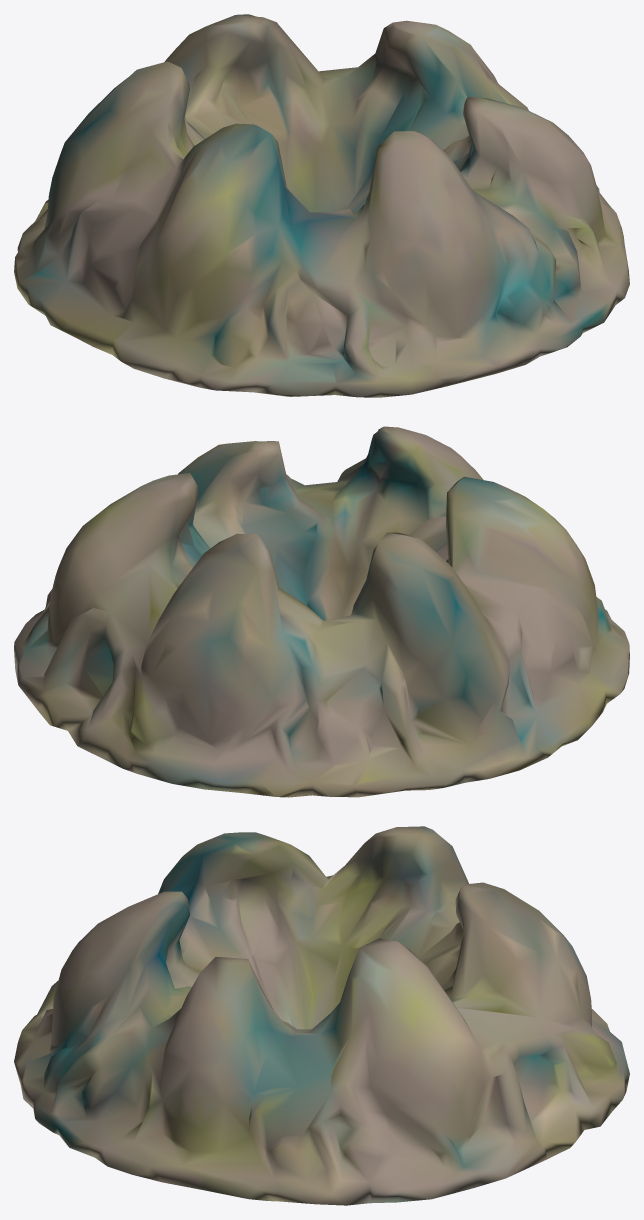
File: MigrationPit_game.glb
The picture shows the model from 3 angles, top to bottom: view 1: azimuth 30°, elevation 25°; view 2: azimuth 150°, elevation 25°; view 3: azimuth 270°, elevation 25°; orthographic projection.
Visible parts, largest first — view 1: MigrationPit; view 2: MigrationPit; view 3: MigrationPit.
Part boxes in pixels (x1=…): MigrationPit: x1=14, y1=14, x2=629, y2=397; MigrationPit: x1=14, y1=426, x2=629, y2=797; MigrationPit: x1=14, y1=826, x2=629, y2=1205.
Size of the model in its own units: 1.12 by 0.384 by 1.12.
